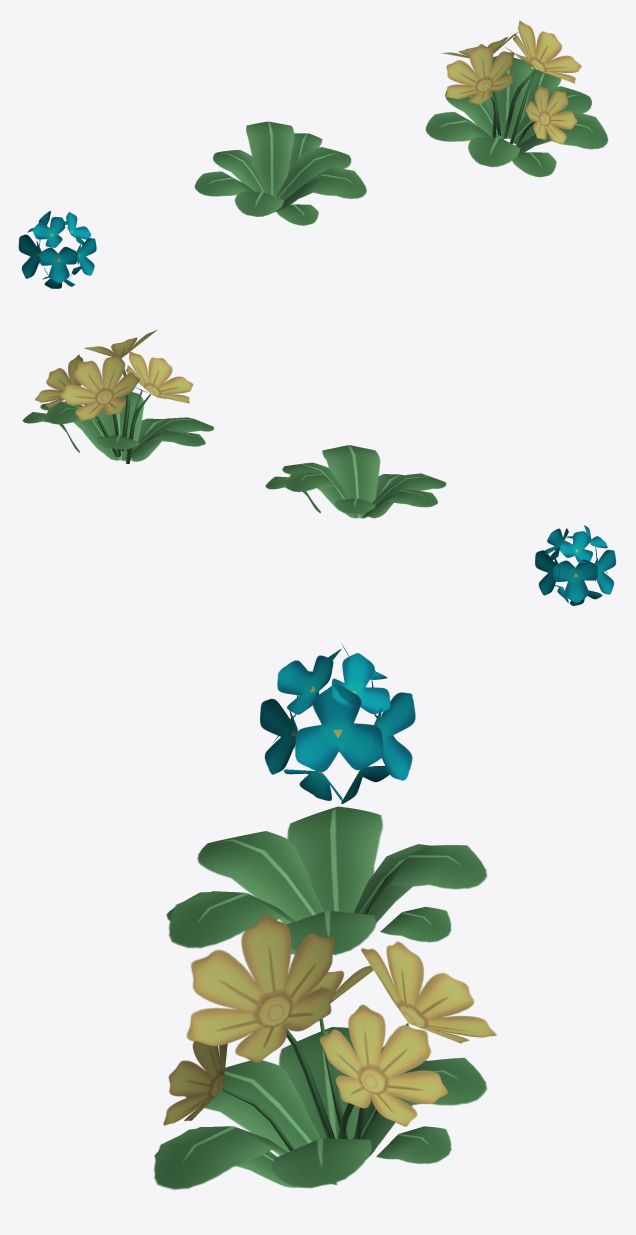
File: FlowerBushes.glb
3 views of the same model, one above another, from view 1: azimuth 30°, elevation 25°; view 2: azimuth 150°, elevation 25°; view 3: azimuth 270°, elevation 25° (orthographic). The views are drawn at different scales.
Visible parts, largest first — view 1: Plant_Flowers, Plant_2, Petals_1; view 2: Plant_Flowers, Plant_2, Petals_1; view 3: Plant_Flowers, Plant_2, Petals_1.
Part boxes in pixels (<box>): Plant_Flowers: <box>425,21,608,177</box>; Plant_2: <box>194,121,366,225</box>; Petals_1: <box>18,211,96,288</box>; Plant_Flowers: <box>22,330,213,463</box>; Plant_2: <box>265,445,446,518</box>; Petals_1: <box>535,525,615,605</box>; Plant_Flowers: <box>154,914,496,1189</box>; Plant_2: <box>166,806,487,955</box>; Petals_1: <box>260,643,415,803</box>.
Size of the model in its own units: 5 by 1.34 by 1.53.
1 material, 1 textured.
